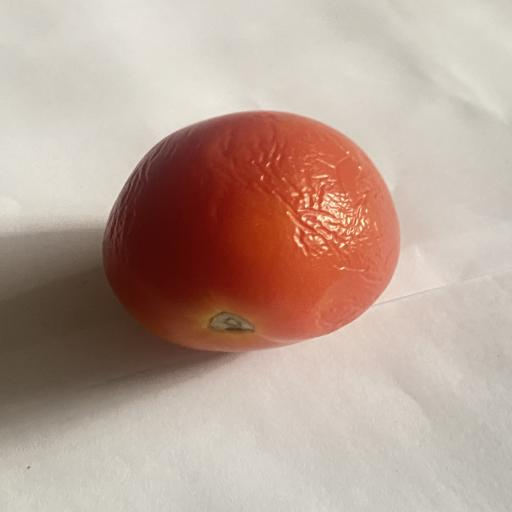spoiled: (103, 111, 400, 351)
